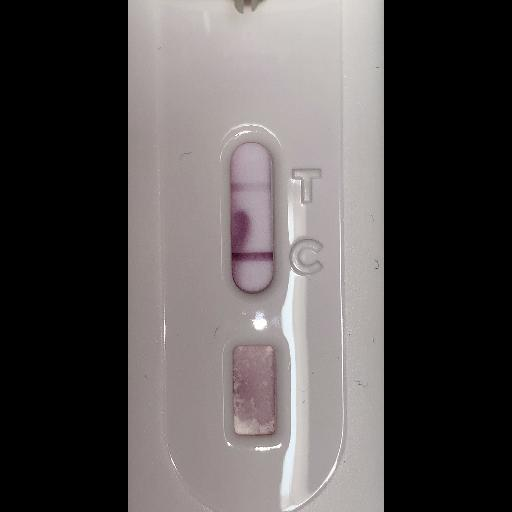Pos: (128, 0, 353, 511)
